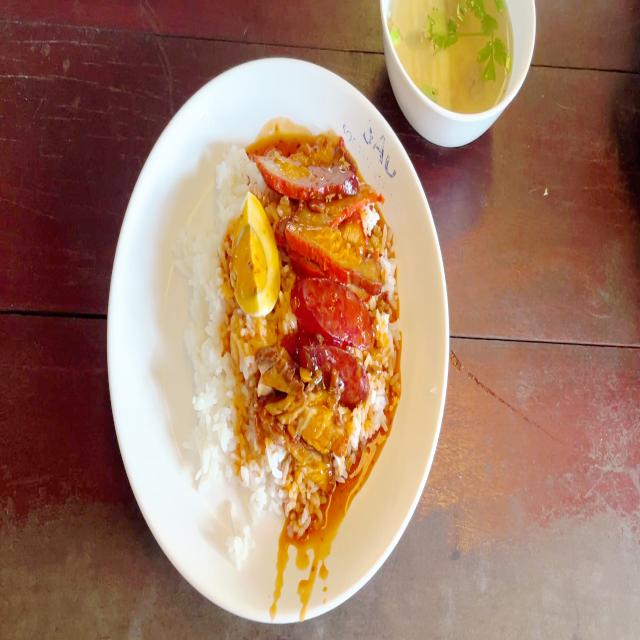boiled_egg: (234, 193, 280, 313)
chainese_sausage: (292, 277, 373, 389)
crispy_pork: (266, 398, 344, 478)
red_pork: (293, 197, 381, 274), (270, 161, 355, 195)
red_pork_and_crispy_pork: (188, 155, 390, 499)
rice: (188, 226, 233, 460), (230, 320, 255, 498), (214, 152, 258, 198), (230, 515, 257, 565)
